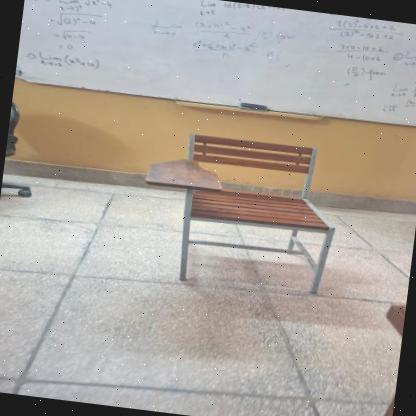chair: (131, 118, 359, 309)
